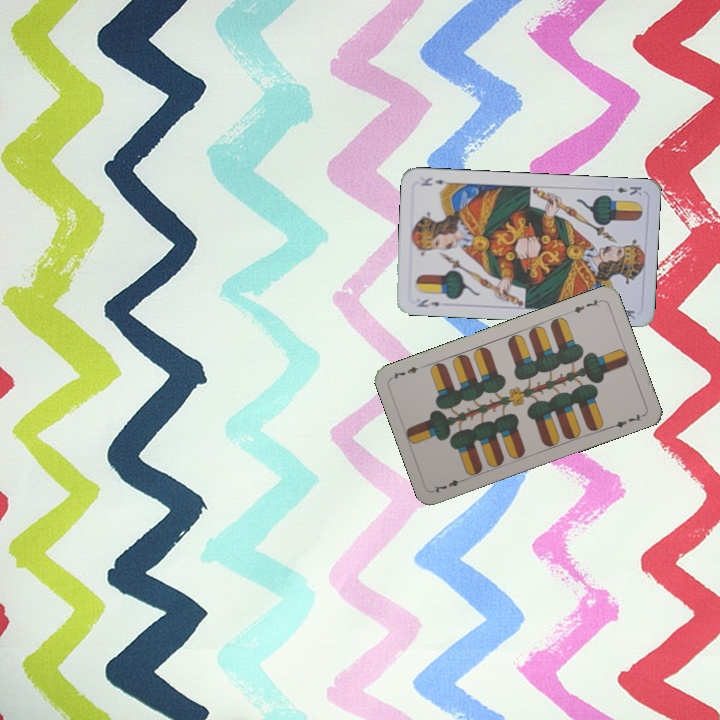E7: (430, 474, 469, 496), (565, 295, 604, 316)
EK: (612, 182, 644, 198), (413, 295, 442, 310)
